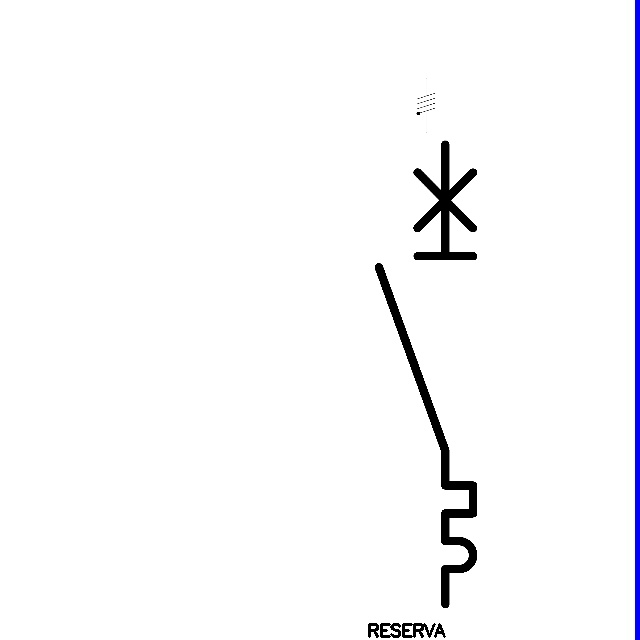interruptor_termomagnetico: (367, 132, 485, 616)
